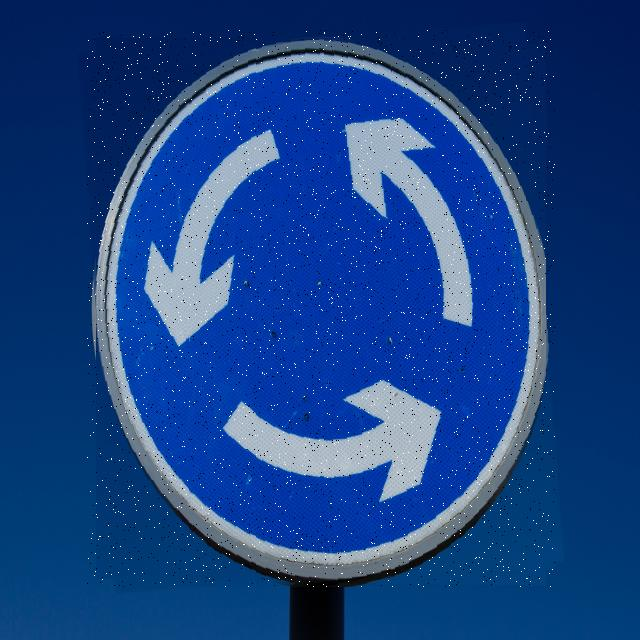roundabout: (87, 30, 555, 587)
